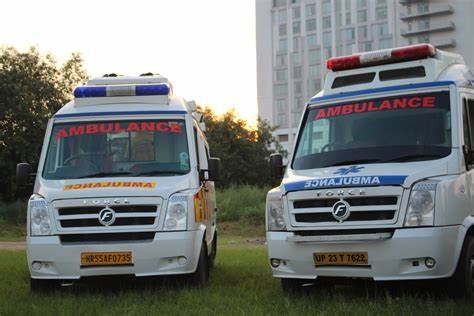ambulance: (24, 52, 235, 298), (254, 44, 467, 286)
